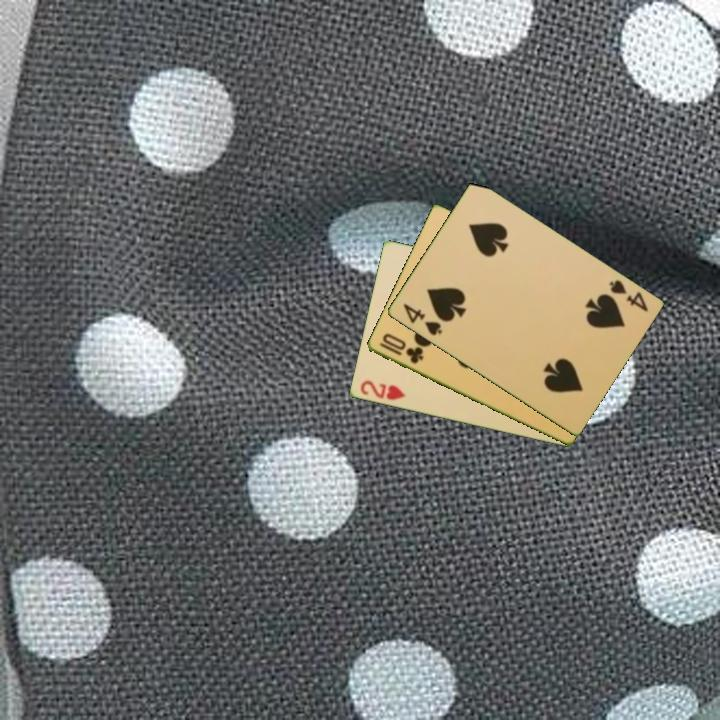10c: (376, 330, 426, 367)
2h: (356, 377, 409, 403)
4s: (605, 276, 651, 315), (399, 300, 445, 338)
